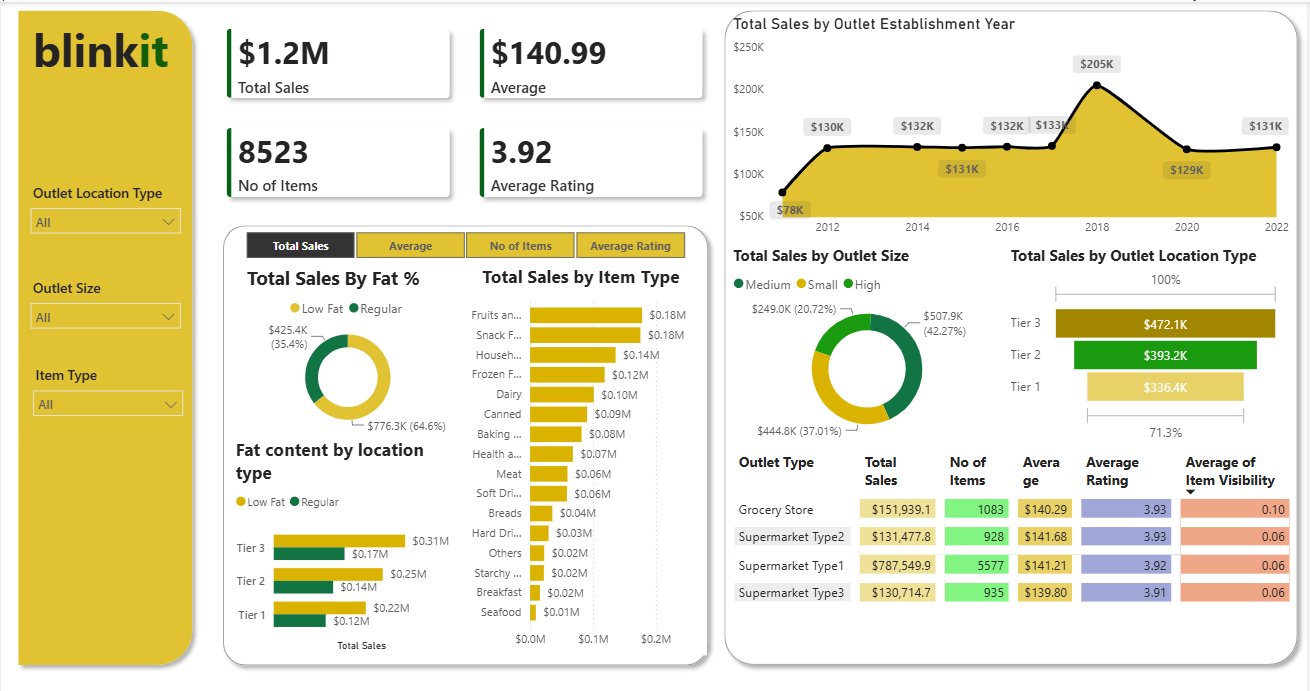

The page's visual inventory and layout, read from the dashboard file:
{"tool":"powerbi","page":{"name":"Page 1","canvas":[1400,800],"ordinal":0},"visuals":[{"type":"shape","box":[10,0,205,720],"z":0},{"type":"textbox","box":[9.2,12.9,195.3,75.5],"z":1000},{"type":"cardVisual","fields":{"Data":["BlinkIT Grocery Data.Total Sales","BlinkIT Grocery Data.Average","BlinkIT Grocery Data.No of Items","BlinkIT Grocery Data.Average Rating"]},"box":[213.7,0,569.3,239.5],"z":2000},{"type":"shape","box":[229.2,230.4,538.1,489.8],"z":3000},{"type":"slicer","fields":{"Values":["Metrics.Metrics"]},"box":[237.7,240.1,520,41],"z":4000},{"type":"donutChart","title":"Total Sales By Fat %","fields":{"Y":["BlinkIT Grocery Data.Total Sales"],"Category":["BlinkIT Grocery Data.Item Fat Content"]},"box":[259.4,281.1,226.8,185.8],"z":5000},{"type":"clusteredBarChart","title":"Fat content by location type","fields":{"Y":["BlinkIT Grocery Data.Total Sales"],"Category":["BlinkIT Grocery Data.Outlet Location Type"],"Series":["BlinkIT Grocery Data.Item Fat Content"]},"box":[246.7,466.5,239.9,234.6],"z":6000},{"type":"barChart","fields":{"Y":["BlinkIT Grocery Data.Total Sales"],"Category":["BlinkIT Grocery Data.Item Type"]},"box":[486.6,281.5,270.8,419.6],"z":7000},{"type":"shape","box":[766.8,0,632.7,719.8],"z":8000},{"type":"areaChart","fields":{"Category":["BlinkIT Grocery Data.Outlet Establishment Year"],"Y":["BlinkIT Grocery Data.Total Sales"]},"box":[780.2,13.4,605.9,246.7],"z":9000},{"type":"donutChart","fields":{"Category":["BlinkIT Grocery Data.Outlet Size"],"Y":["BlinkIT Grocery Data.Total Sales"]},"box":[780.2,260.1,297.6,215.8],"z":10000},{"type":"funnel","fields":{"Y":["BlinkIT Grocery Data.Total Sales"],"Category":["BlinkIT Grocery Data.Outlet Location Type"]},"box":[1077.8,260.1,298.9,215.8],"z":11000},{"type":"tableEx","fields":{"Values":["BlinkIT Grocery Data.Outlet Type","BlinkIT Grocery Data.Total Sales","BlinkIT Grocery Data.No of Items","BlinkIT Grocery Data.Average","BlinkIT Grocery Data.Average Rating","Avg(BlinkIT Grocery Data.Item Visibility)"]},"box":[780.2,475.9,607.2,225.2],"z":12000},{"type":"slicer","fields":{"Values":["BlinkIT Grocery Data.Outlet Location Type"]},"box":[21.4,189,181,83.1],"z":13000},{"type":"slicer","fields":{"Values":["BlinkIT Grocery Data.Outlet Size"]},"box":[21.4,290.9,181,83.1],"z":14000},{"type":"slicer","fields":{"Values":["BlinkIT Grocery Data.Item Type"]},"box":[24.1,384.7,181,83.1],"z":14001}]}

Visuals, with their boxes on the page's 1400x800 design canvas (x1, y1, x2, y2). These are canvas units, not pixel positions in the 1310x691 screenshot, which may show the page scaled, cropped or inside an application window:
shape: box(10, 0, 215, 720)
textbox: box(9, 13, 204, 88)
cardVisual - BlinkIT Grocery Data.Total Sales x BlinkIT Grocery Data.Average: box(214, 0, 783, 240)
shape: box(229, 230, 767, 720)
slicer - Metrics.Metrics: box(238, 240, 758, 281)
"Total Sales By Fat %" donutChart: box(259, 281, 486, 467)
"Fat content by location type" clusteredBarChart: box(247, 466, 487, 701)
barChart - BlinkIT Grocery Data.Total Sales x BlinkIT Grocery Data.Item Type: box(487, 282, 757, 701)
shape: box(767, 0, 1400, 720)
areaChart - BlinkIT Grocery Data.Outlet Establishment Year x BlinkIT Grocery Data.Total Sales: box(780, 13, 1386, 260)
donutChart - BlinkIT Grocery Data.Outlet Size x BlinkIT Grocery Data.Total Sales: box(780, 260, 1078, 476)
funnel - BlinkIT Grocery Data.Total Sales x BlinkIT Grocery Data.Outlet Location Type: box(1078, 260, 1377, 476)
tableEx - BlinkIT Grocery Data.Outlet Type x BlinkIT Grocery Data.Total Sales: box(780, 476, 1387, 701)
slicer - BlinkIT Grocery Data.Outlet Location Type: box(21, 189, 202, 272)
slicer - BlinkIT Grocery Data.Outlet Size: box(21, 291, 202, 374)
slicer - BlinkIT Grocery Data.Item Type: box(24, 385, 205, 468)
